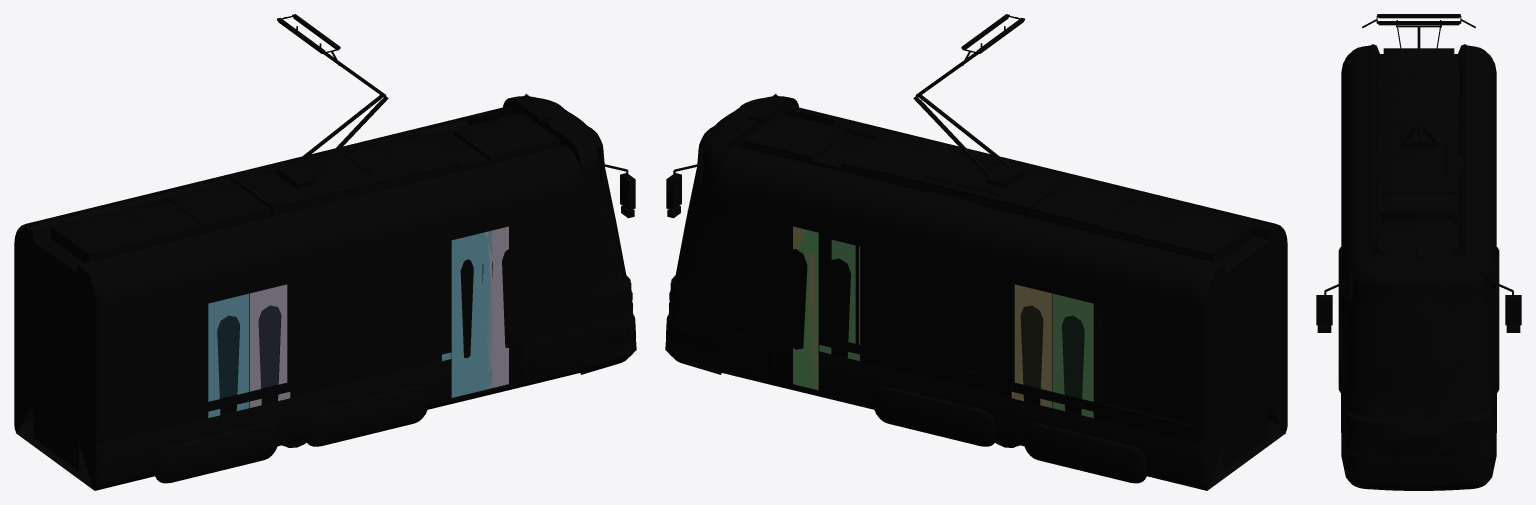
3 renders of one model, left to right at view 1: azimuth 30°, elevation 25°; view 2: azimuth 150°, elevation 25°; view 3: azimuth 270°, elevation 25°, orthographic. The views are drawn at different scales.
Parts seen in each view (by area): view 1: Cab_mid, Cab_far, Cab, Susp_mid, Centre_mid, Susp, Panto, Susp_far, Centre, Centre_far; view 2: Cab_mid, Cab_far, Cab, Susp_mid, Centre_mid, Susp, Panto, Centre, Susp_far, Centre_far; view 3: Cab, Cab_mid, Cab_far, Centre_mid, Susp_mid, Susp, Panto, Centre, Susp_far, Centre_far.
Part boxes in pixels (x1,y1,x2,y2): Cab_mid: (14, 95, 636, 490); Cab_far: (14, 98, 636, 490); Cab: (14, 93, 636, 478); Susp_mid: (129, 121, 528, 445); Centre_mid: (212, 142, 445, 446); Susp: (131, 119, 527, 416); Panto: (269, 14, 388, 195); Susp_far: (165, 124, 491, 233); Centre: (214, 142, 445, 258); Centre_far: (230, 141, 421, 443); Cab_mid: (665, 95, 1287, 490); Cab_far: (665, 98, 1287, 490); Cab: (665, 93, 1287, 478); Susp_mid: (773, 122, 1172, 445); Centre_mid: (855, 142, 1089, 446); Susp: (774, 120, 1170, 417); Panto: (913, 14, 1032, 195); Centre: (858, 142, 1087, 258); Susp_far: (812, 124, 1136, 232); Centre_far: (880, 141, 1071, 443); Cab: (1341, 45, 1496, 490); Cab_mid: (1316, 44, 1521, 484); Cab_far: (1316, 45, 1521, 489); Centre_mid: (1338, 126, 1499, 392); Susp_mid: (1341, 91, 1496, 428); Susp: (1341, 93, 1496, 259); Panto: (1362, 14, 1475, 176); Centre: (1341, 131, 1496, 223); Susp_far: (1371, 92, 1465, 255); Centre_far: (1339, 126, 1498, 382).
Size of the model in its own units: 8.71 by 5.79 by 3.04.
